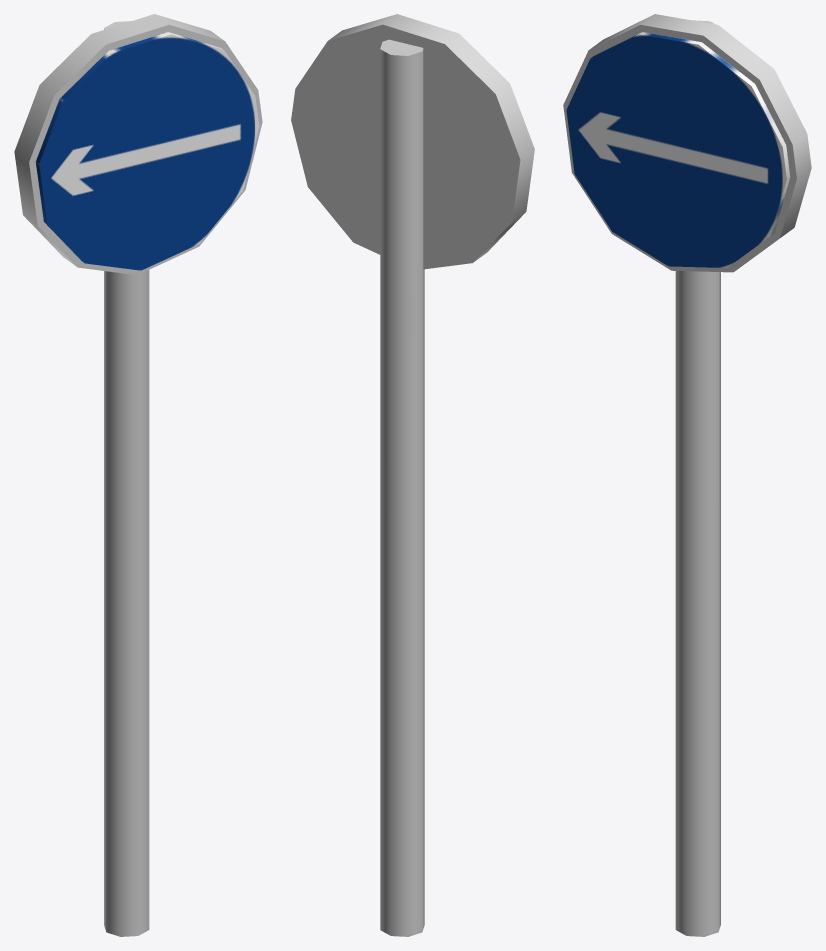
The model's file is ONEWAY(L).fbx.
3 renders of one model, left to right at view 1: azimuth 30°, elevation 25°; view 2: azimuth 150°, elevation 25°; view 3: azimuth 330°, elevation 25°, orthographic.
Visible parts, largest first — view 1: pasted__layer 8; view 2: pasted__layer 8; view 3: pasted__layer 8.
Boxes of the visible parts, x1,y1,x2,y2 form: pasted__layer 8: [14, 14, 262, 936]; pasted__layer 8: [291, 14, 534, 936]; pasted__layer 8: [563, 14, 811, 936].
Bounding box in the file's own units: 1.02 × 3.81 × 0.2565.
Materials: 3 (1 with a texture image).
